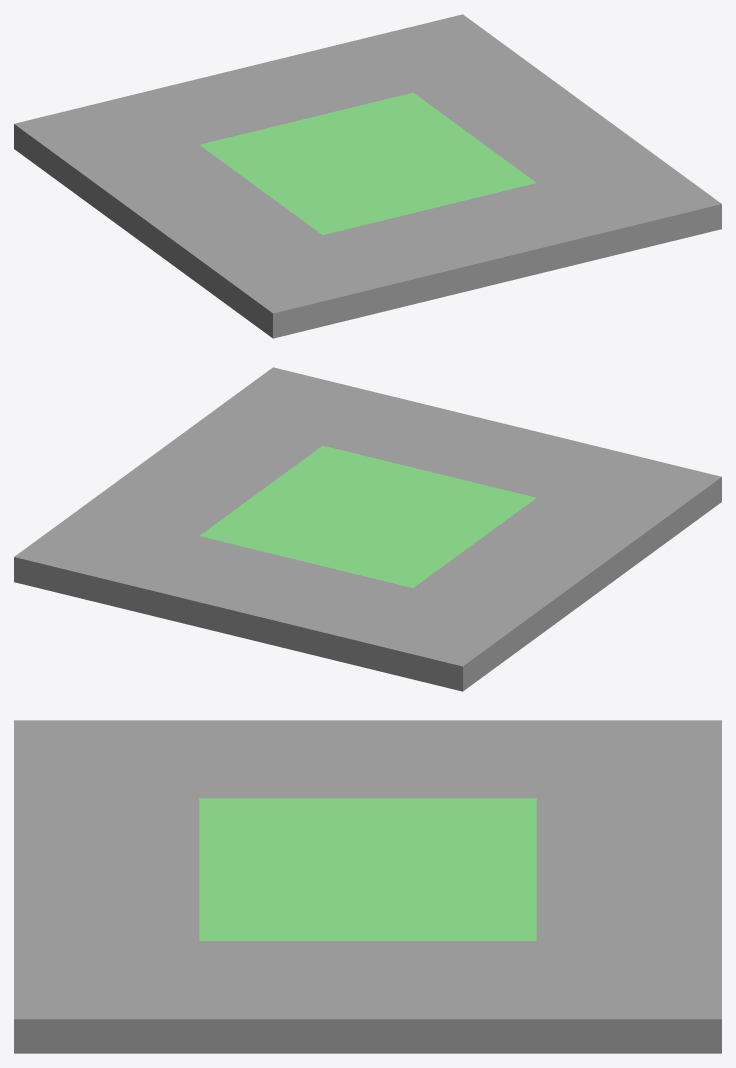
Rendered from Buraco1.fbx.
3 views of the same model, one above another, from view 1: azimuth 30°, elevation 25°; view 2: azimuth 150°, elevation 25°; view 3: azimuth 270°, elevation 25° (orthographic). The views are drawn at different scales.
Visible parts, largest first — view 1: Base, Buraco; view 2: Base, Buraco; view 3: Base, Buraco.
Part boxes in pixels (x1,y1,x2,y2): Base: (14,14,721,338); Buraco: (199,92,535,234); Base: (14,367,721,691); Buraco: (200,445,536,587); Base: (14,720,721,1053); Buraco: (199,798,536,940).
Bounding box in the file's own units: 960 × 51.42 × 960.
